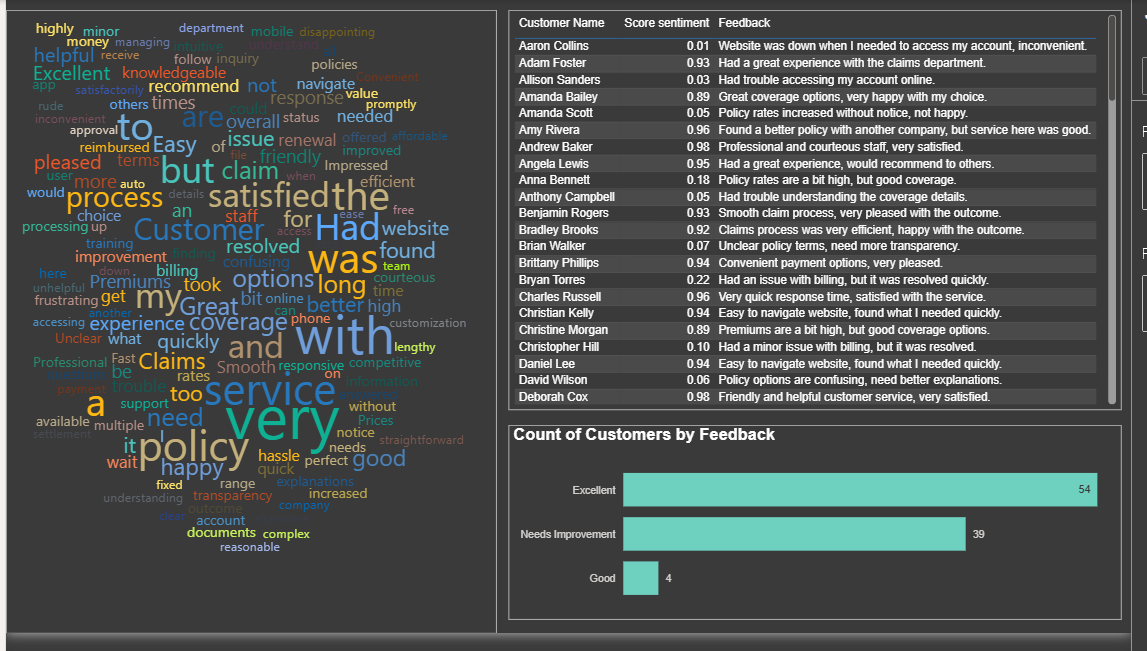

Layout of this report page (visuals, bound fields, positions):
{"tool":"powerbi","page":{"name":"Page 3","canvas":[1280,720],"ordinal":2},"visuals":[{"type":"WordCloud1447959067750","fields":{"Category":["Sheet1.Feedback"],"Values":["CountNonNull(Sheet1.Feedback)"]},"box":[0,10.9,558.6,709.4],"z":0},{"type":"barChart","title":"Count of Customers by Feedback","fields":{"Category":["Sheet1.Good/ Improvement"],"Y":["CountNonNull(Sheet1.Customer Name)"]},"box":[571.9,483.8,697.3,222],"z":1},{"type":"tableEx","fields":{"Values":["Sheet1.Customer Name","Sheet1.Score sentiment","Sheet1.Feedback"]},"box":[571.9,10.9,697.3,454.8],"z":2}]}

Visuals, with their boxes in screenshot pixels (x1, y1, x2, y2), scaled from the page's 1280x720 canvas onto the 1147x651 screenshot:
WordCloud1447959067750 - Sheet1.Feedback x CountNonNull(Sheet1.Feedback): bbox=[0, 10, 501, 650]
"Count of Customers by Feedback" barChart: bbox=[512, 437, 1137, 638]
tableEx - Sheet1.Customer Name x Sheet1.Score sentiment: bbox=[512, 10, 1137, 421]
